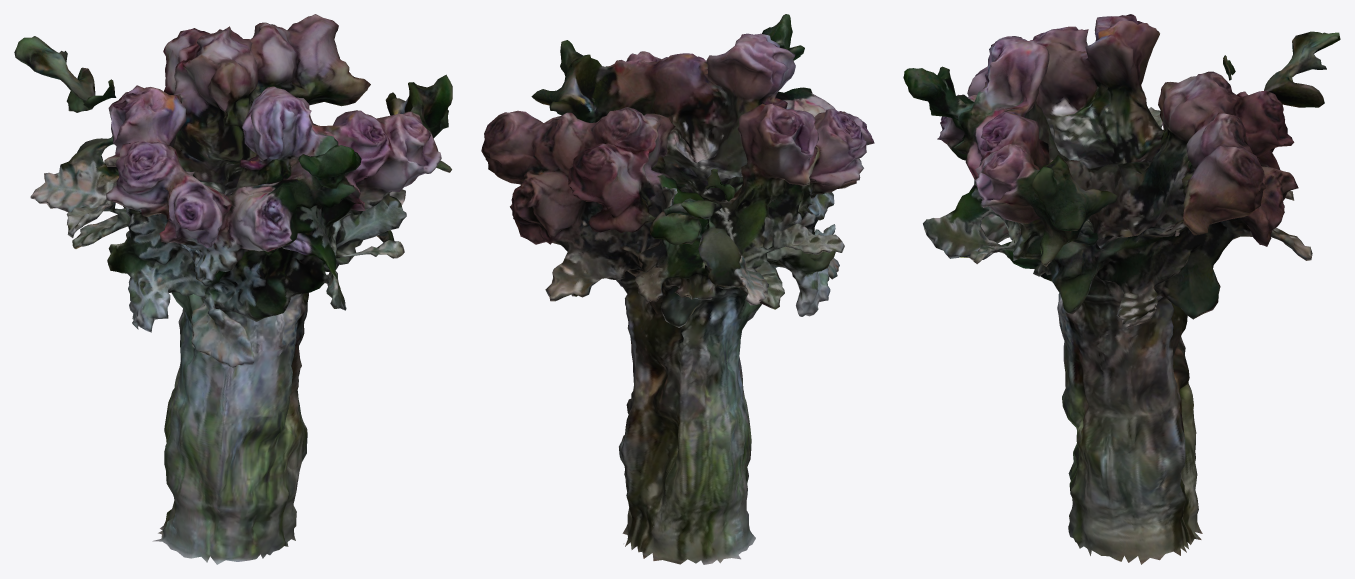
File: roses.glb
3 renders of one model, left to right at view 1: azimuth 30°, elevation 25°; view 2: azimuth 150°, elevation 25°; view 3: azimuth 270°, elevation 25°, orthographic. The views are drawn at different scales.
Visible parts, largest first — view 1: Mesh_0; view 2: Mesh_0; view 3: Mesh_0.
Part boxes in pixels (<box>): Mesh_0: <box>14,14,452,564</box>; Mesh_0: <box>481,14,874,564</box>; Mesh_0: <box>903,14,1340,564</box>.
Bounding box in the file's own units: 0.5095 × 0.6707 × 0.543.
Materials: 1 (1 with a texture image).
